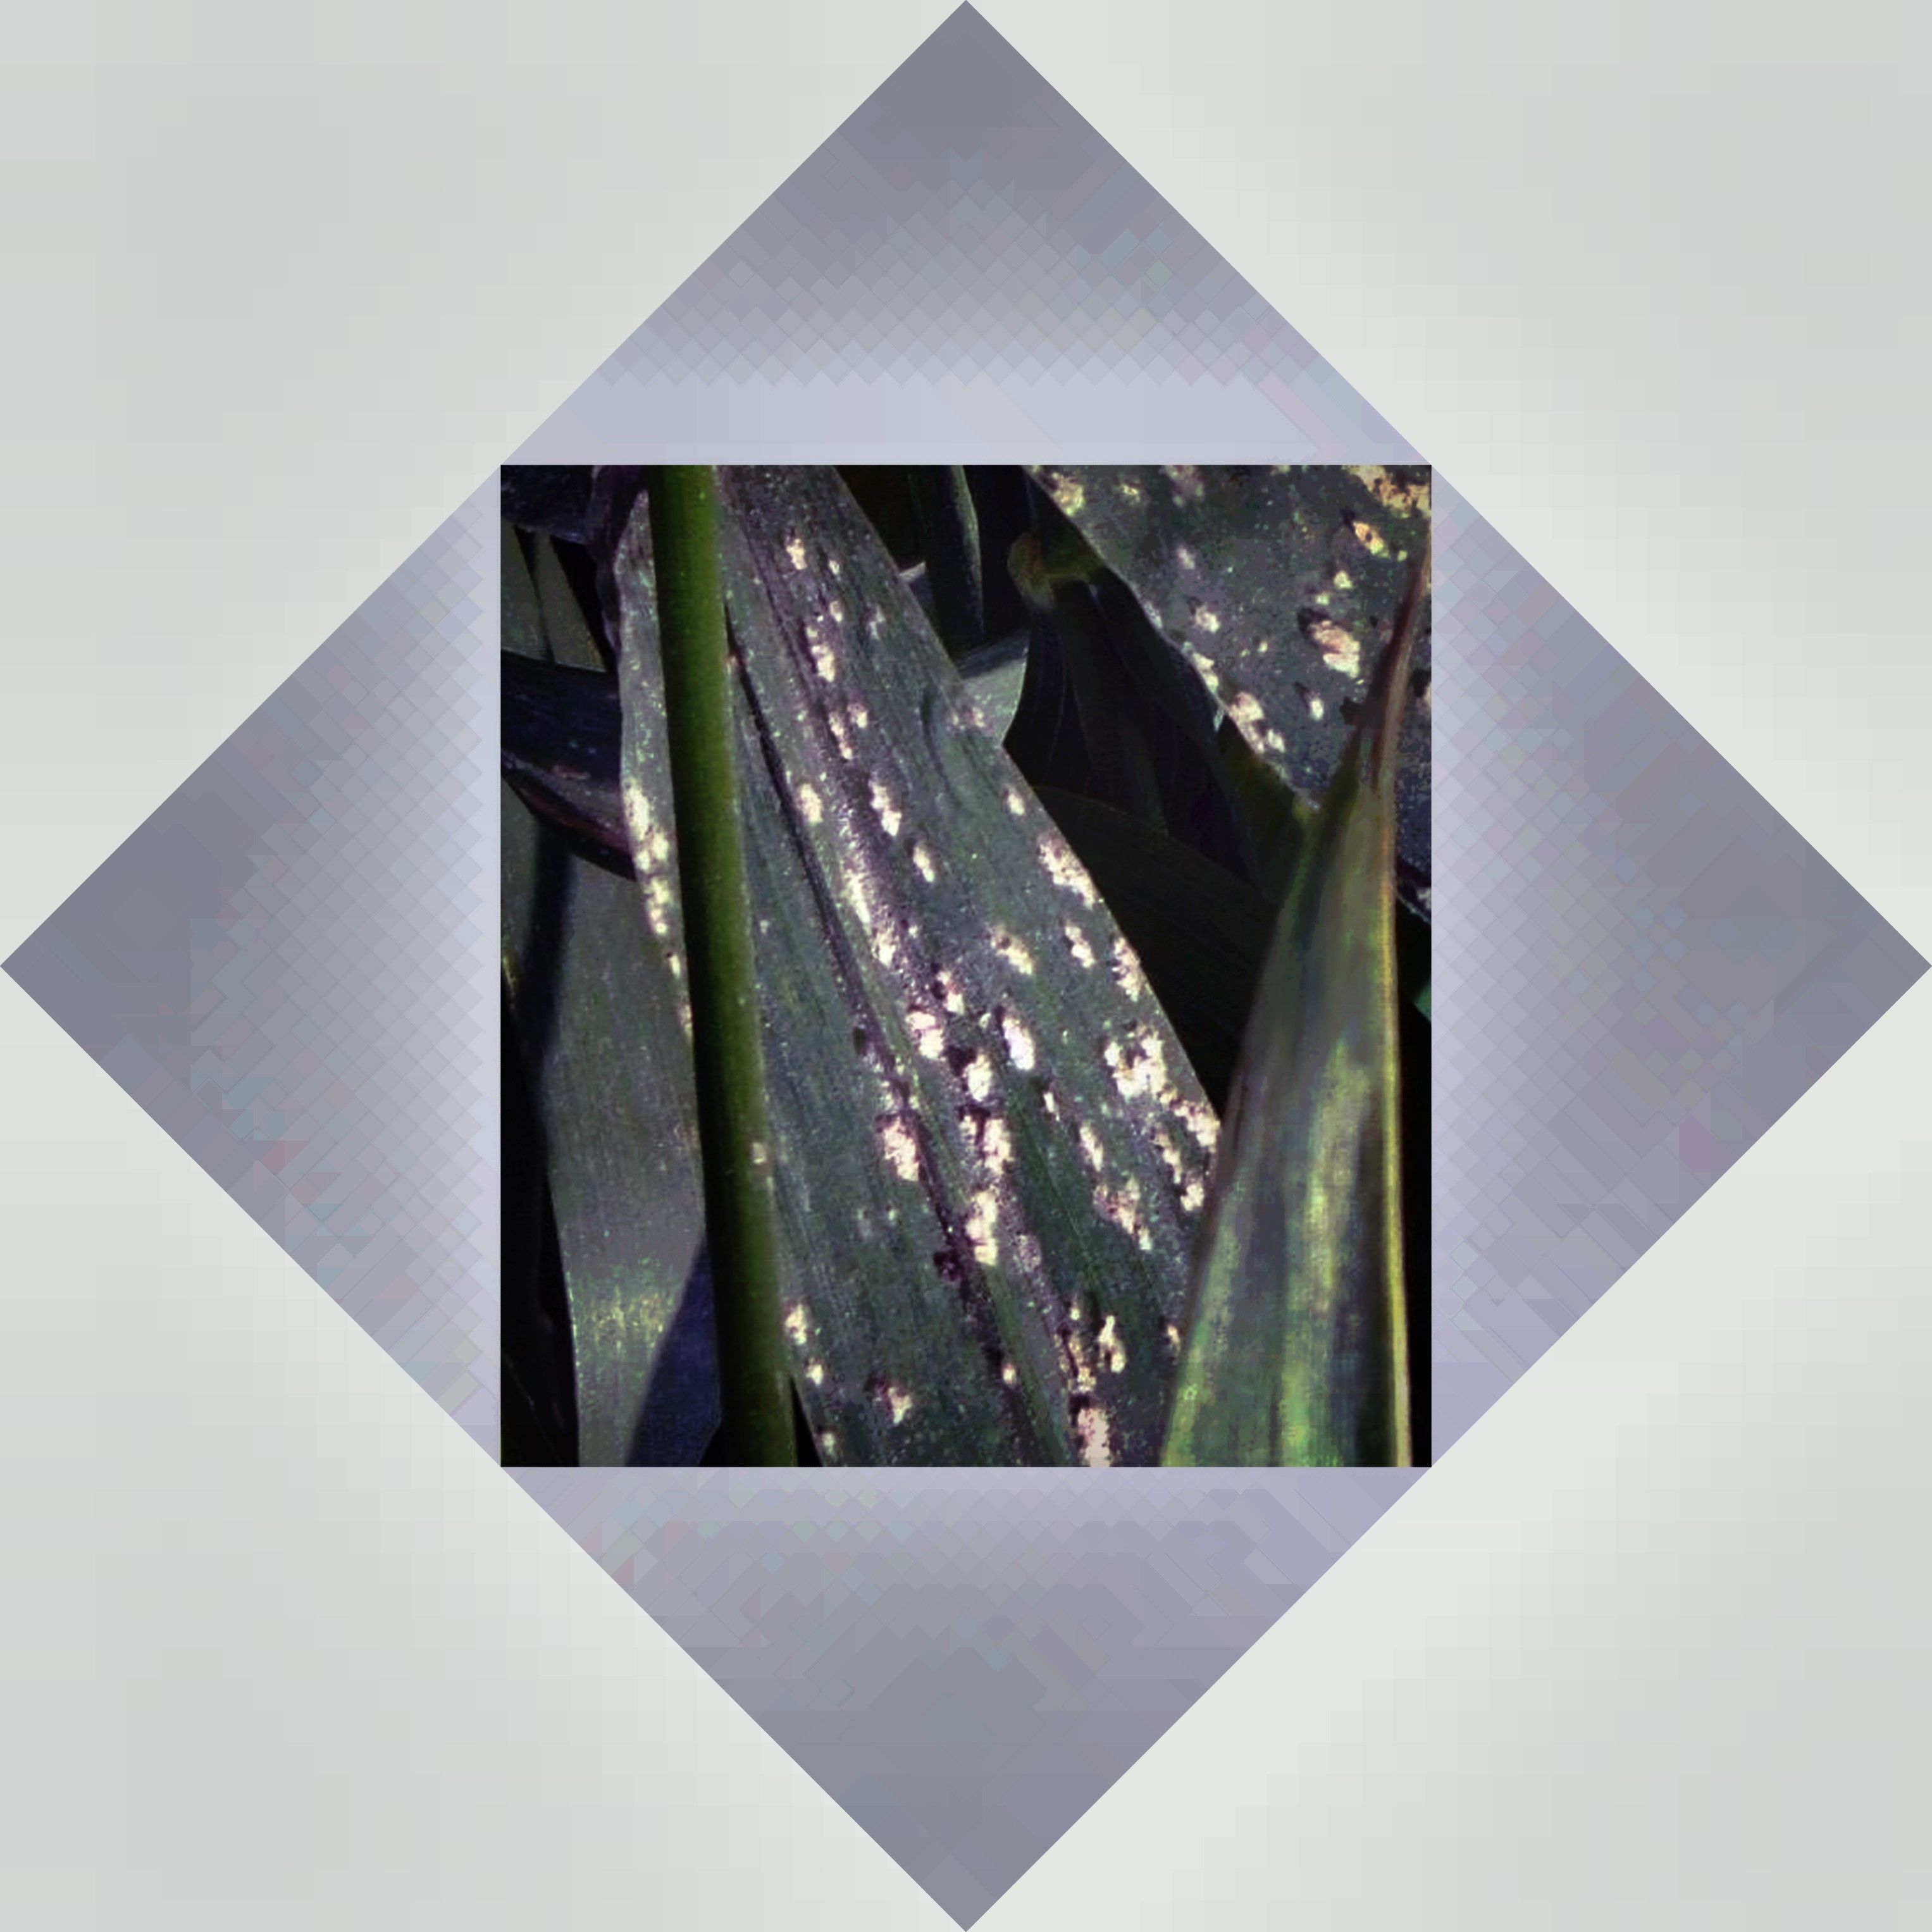Powdery Mildew: (740, 626, 1260, 1369)
